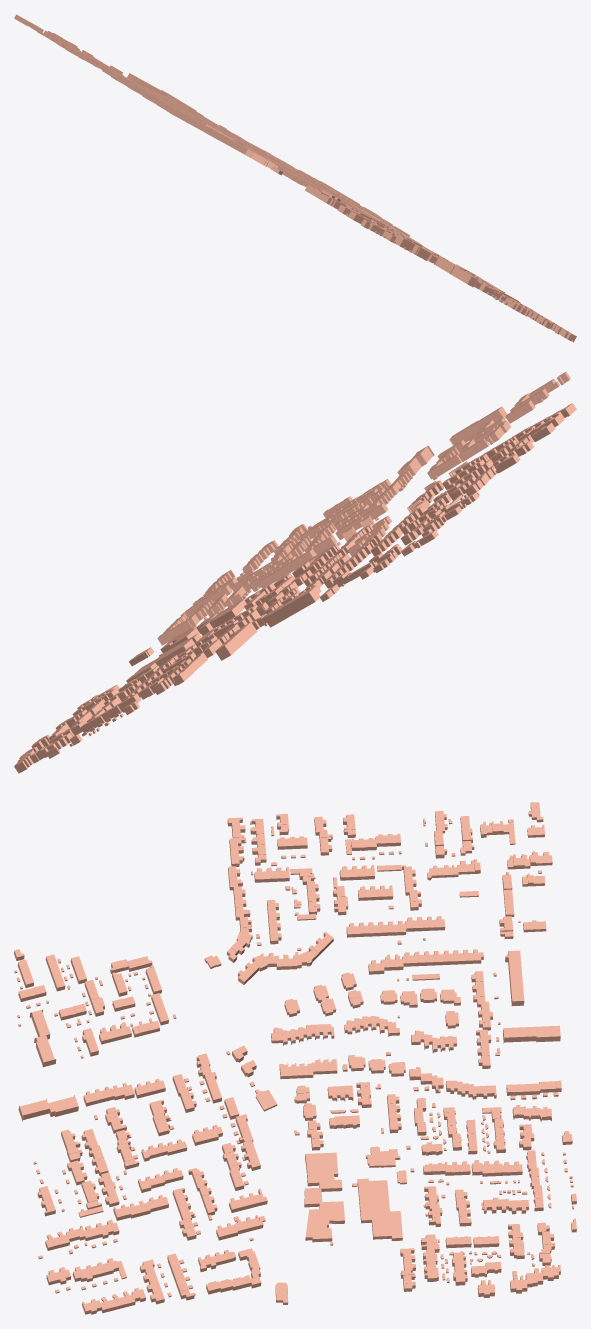
3 views of the same model, one above another, from view 1: azimuth 30°, elevation 25°; view 2: azimuth 150°, elevation 25°; view 3: azimuth 270°, elevation 25° (orthographic). The views are drawn at different scales.
Bounding box in the file's own units: 536 × 380 × 623.
